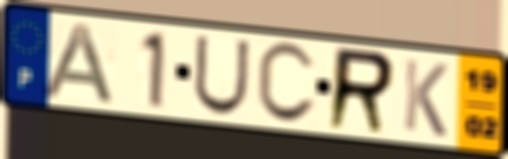1: (137, 29, 168, 111)
A: (39, 20, 119, 107)
C: (254, 40, 319, 128)
K: (401, 56, 451, 141)
R: (324, 44, 399, 137)
U: (190, 33, 253, 117)
